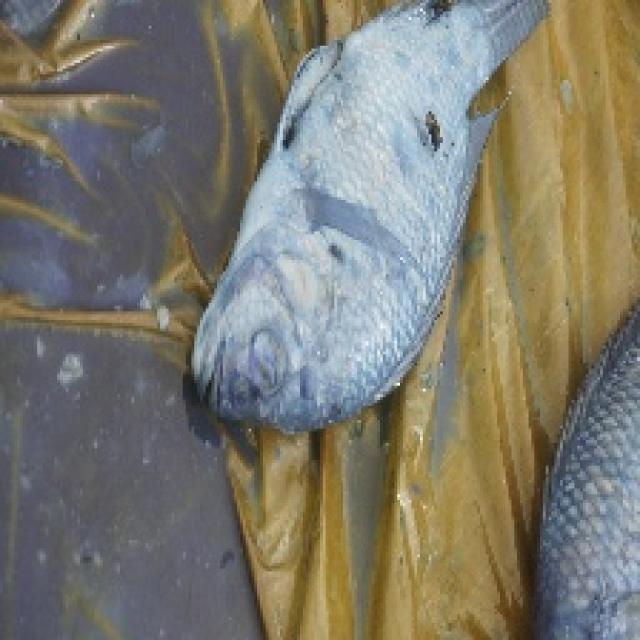Non-Fresh: (222, 6, 482, 447)
